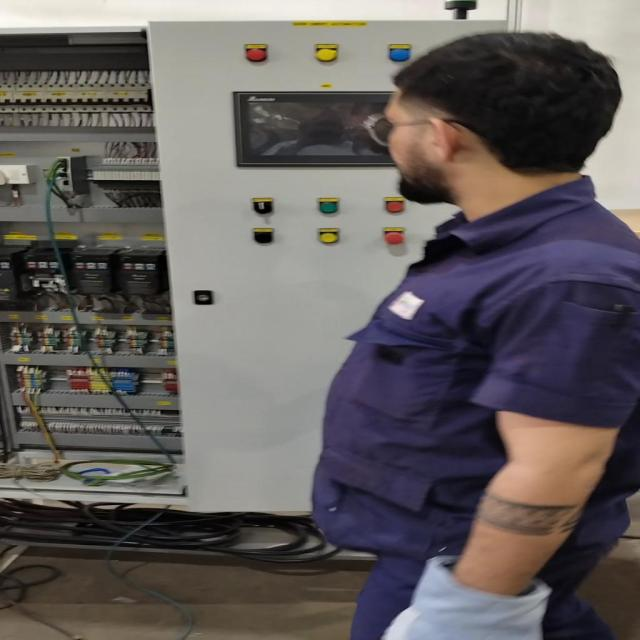Gloves-Detection: (388, 533, 548, 640)
